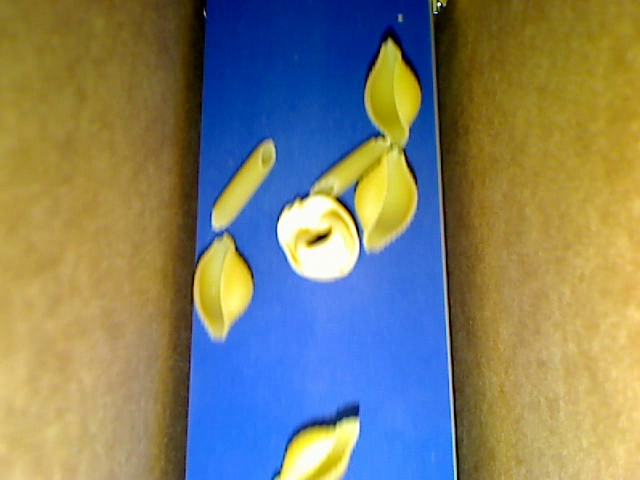penne: (210, 138, 275, 232), (310, 136, 393, 199)
shell: (354, 145, 419, 254), (191, 231, 254, 342), (364, 37, 421, 149), (272, 416, 360, 479)
tortellini: (277, 193, 360, 282)
